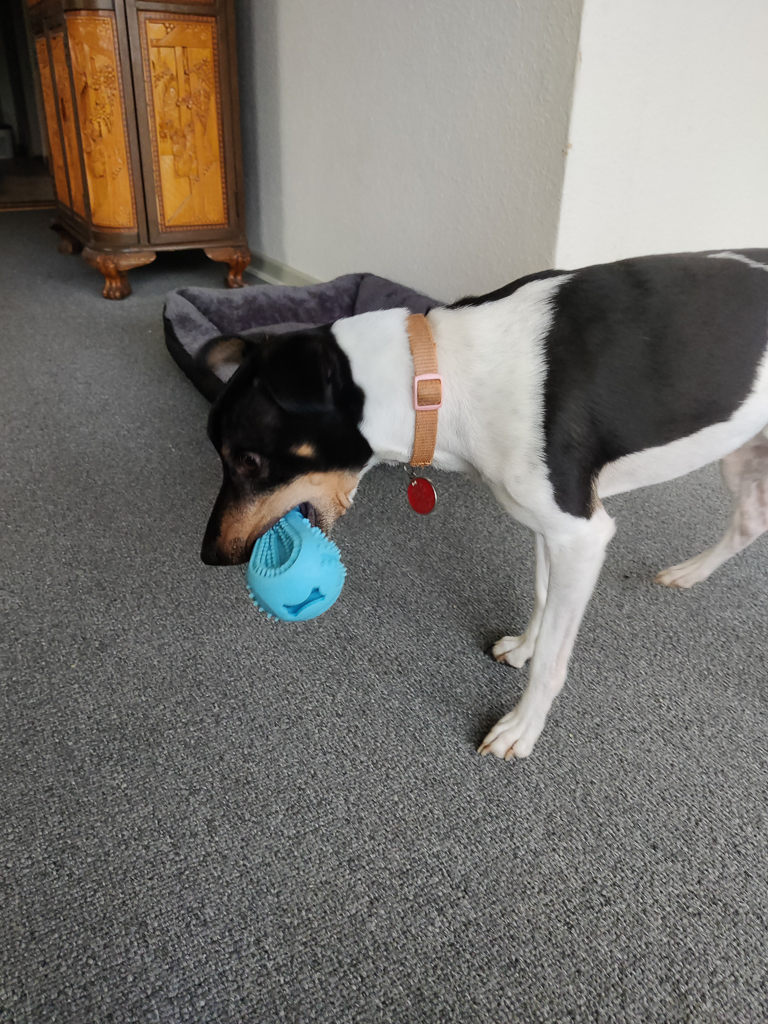Dog: (163, 236, 768, 770)
